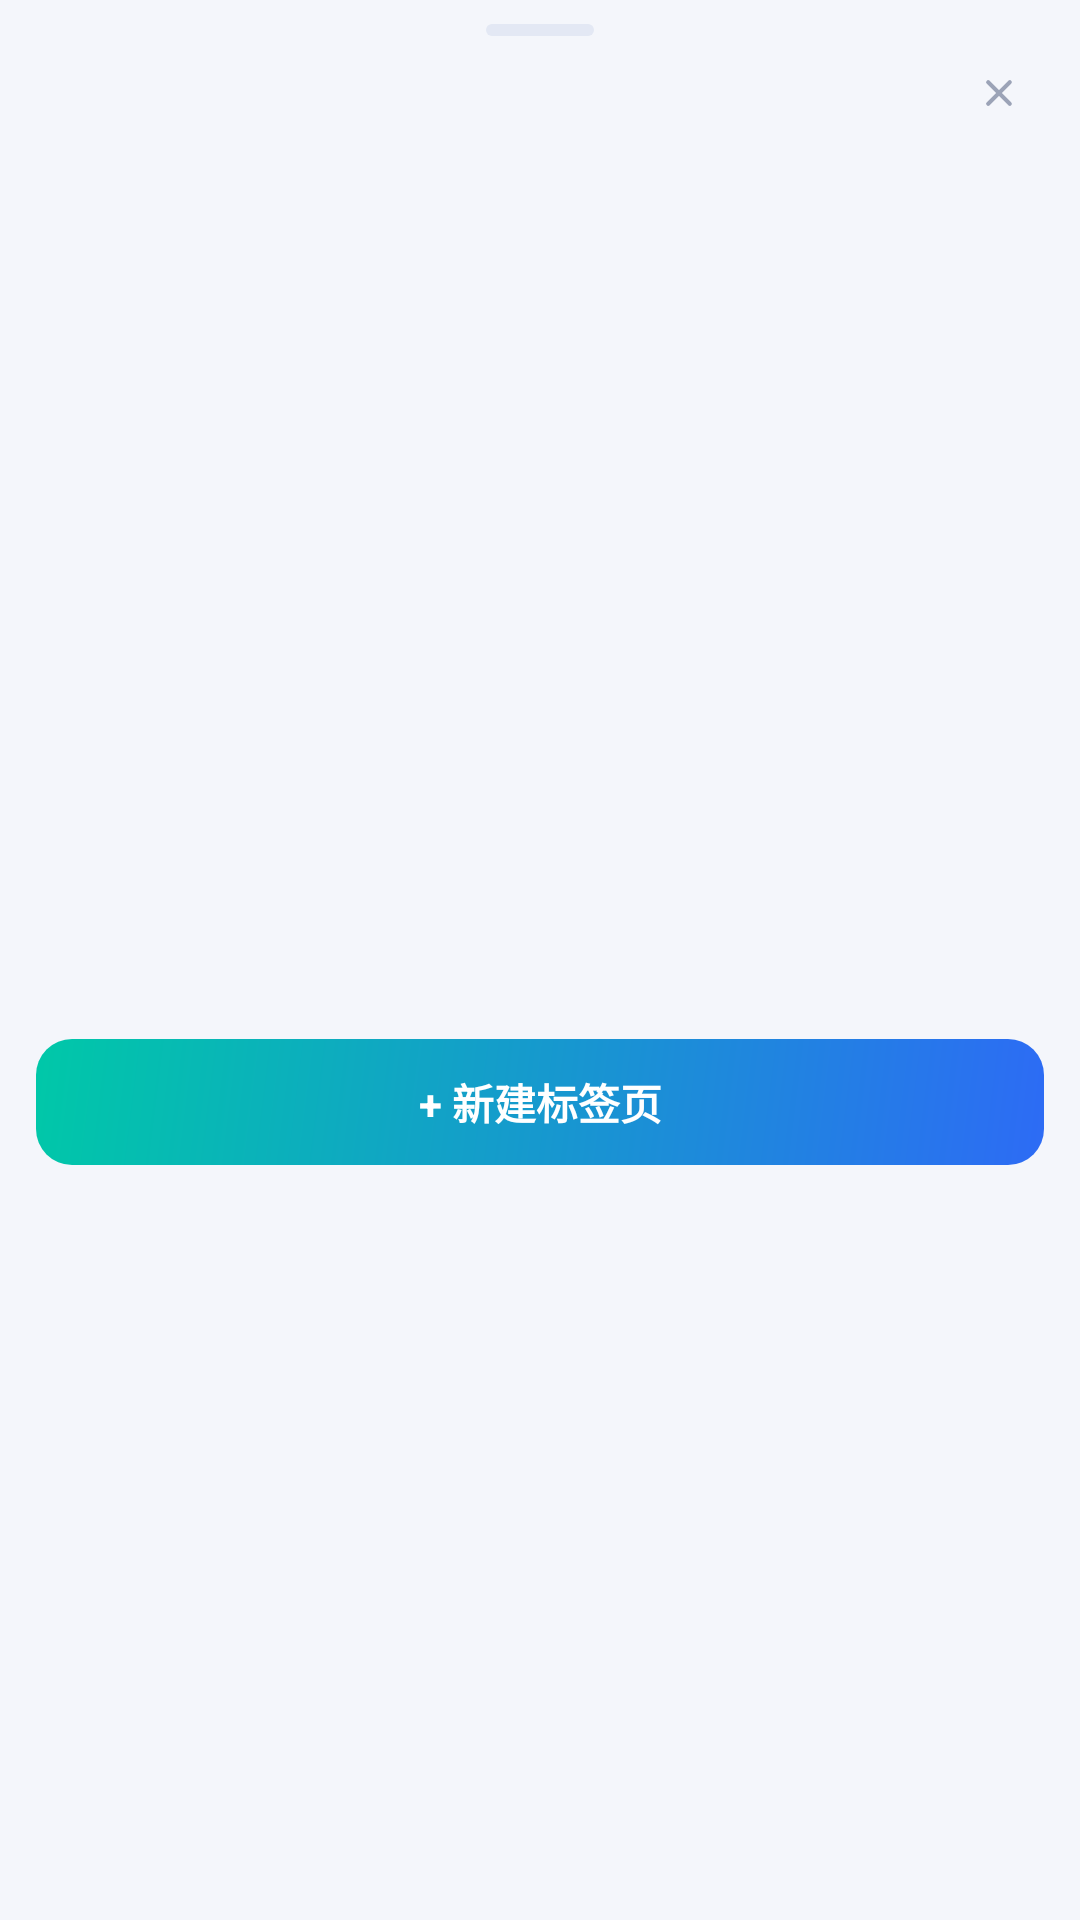

Icons on this 1080px×1920px Android screen, each with the point to tap as (x,y):
关闭: (999,93)
